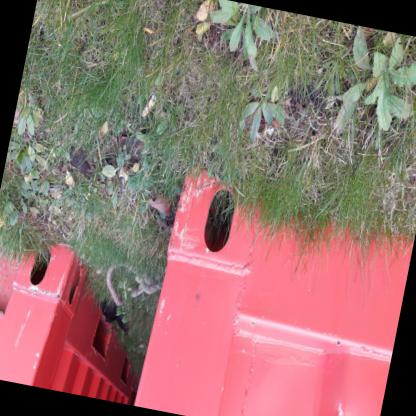CornerCasting: (165, 167, 266, 280), (8, 241, 90, 321)
